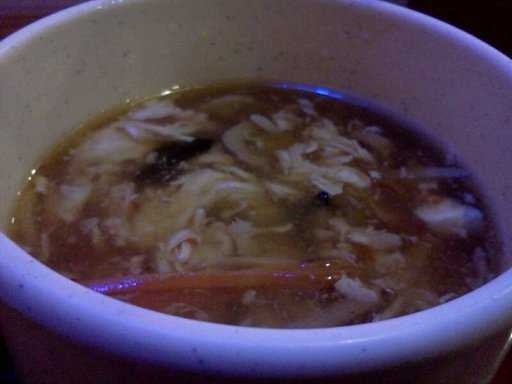soup: (3, 34, 498, 343)
